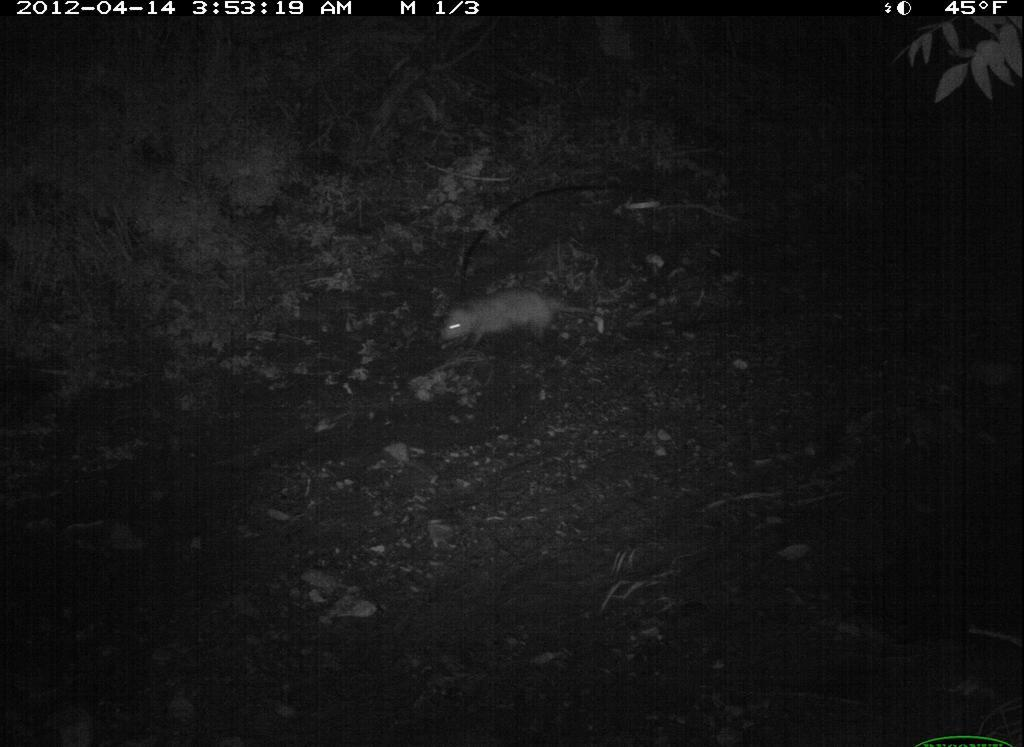opossum: (431, 281, 609, 363)
